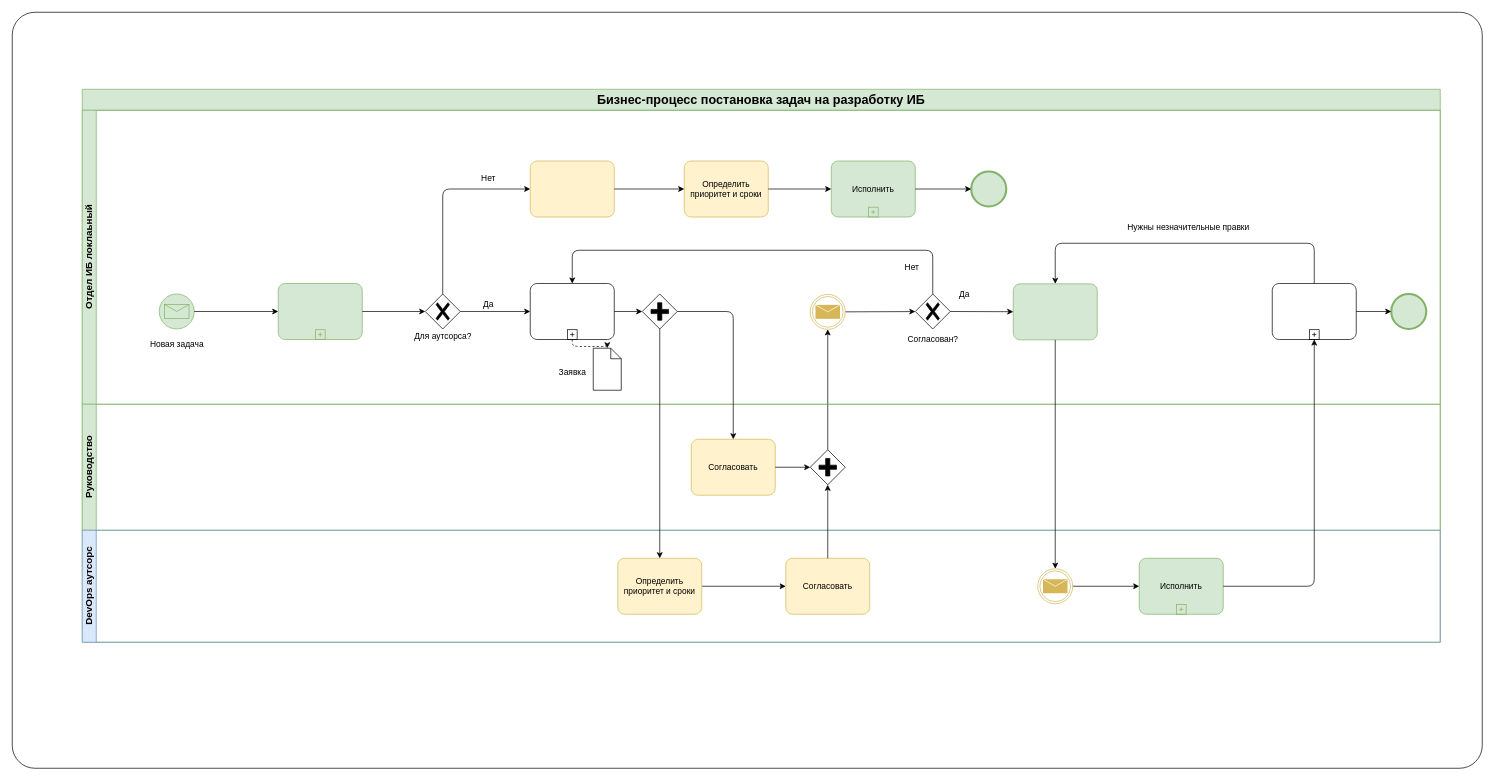
Some shapes in this 1495 by 781 pixel diagram are drawn without their labels. Here are the shapes that lost their labels. From the top down, the centre of each, then its label:
At pixel 572 188: "Назначить исполнителя".
At pixel 320 311: "Определить категорию и тип задачи".
At pixel 572 311: "Оформить или отредактировать заявку".
At pixel 1055 311: "Передать в работу на аутсорс".
At pixel 1314 311: "Проверить и подтвердить выполнение заявки".
